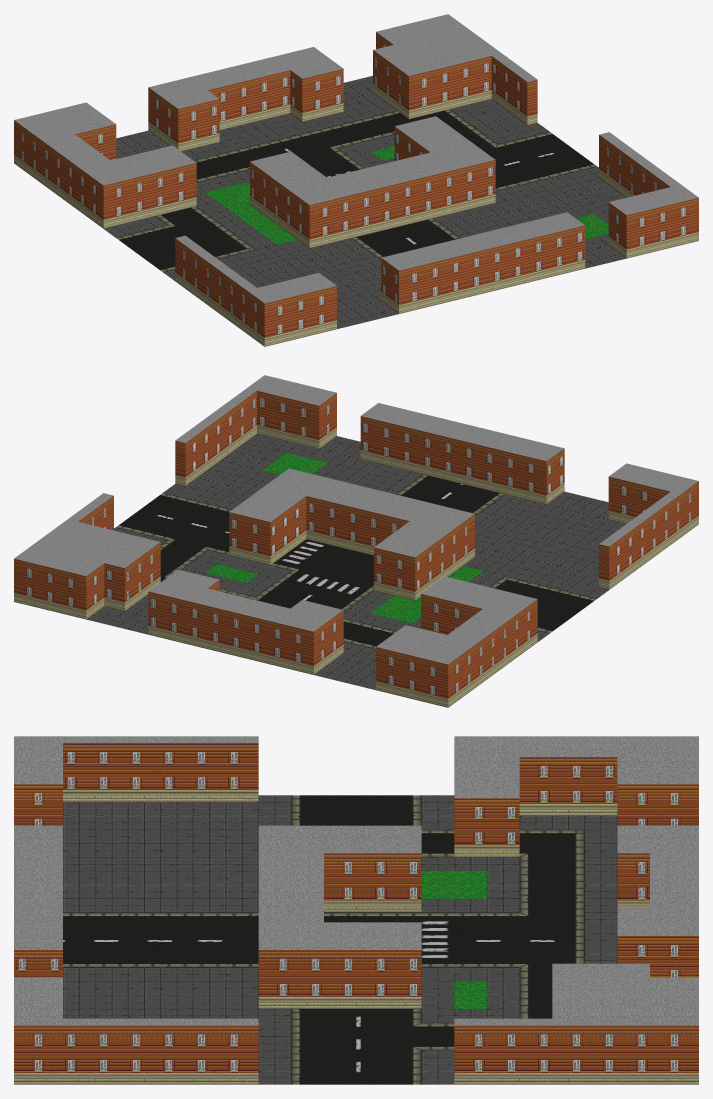
File: Block3.fbx
3 renders of one model, top to bottom at view 1: azimuth 30°, elevation 25°; view 2: azimuth 150°, elevation 25°; view 3: azimuth 270°, elevation 25°, orthographic. The views are drawn at different scales.
Visible parts, largest first — view 1: Plane, Building7, Building3, Building2, Building1, Building5, Building4, Building6; view 2: Plane, Building7, Building3, Building2, Building5, Building1, Building6, Building4; view 3: Plane, Building7, Building1, Building3, Building6, Building4, Building2, Building5.
Boxes of the visible parts, <box> form: Plane: <box>104,76,626,328</box>; Building7: <box>250,116,495,248</box>; Building3: <box>14,102,196,228</box>; Building2: <box>148,47,343,151</box>; Building1: <box>373,14,537,125</box>; Building5: <box>381,212,585,313</box>; Building4: <box>175,235,336,346</box>; Building6: <box>599,132,698,258</box>; Plane: <box>86,434,625,689</box>; Building7: <box>229,468,474,600</box>; Building3: <box>376,576,537,707</box>; Building2: <box>148,569,343,674</box>; Building5: <box>360,403,564,504</box>; Building1: <box>14,493,160,619</box>; Building6: <box>175,375,336,486</box>; Building4: <box>599,463,698,589</box>; Plane: <box>63,795,617,1084</box>; Building7: <box>258,825,421,1008</box>; Building1: <box>454,963,698,1084</box>; Building3: <box>454,736,698,857</box>; Building6: <box>14,977,258,1084</box>; Building4: <box>14,736,258,825</box>; Building2: <box>617,825,698,977</box>; Building5: <box>14,825,62,977</box>.
Bounding box in the file's own units: 420 × 40 × 420.
Materials: 15 (15 with a texture image).
